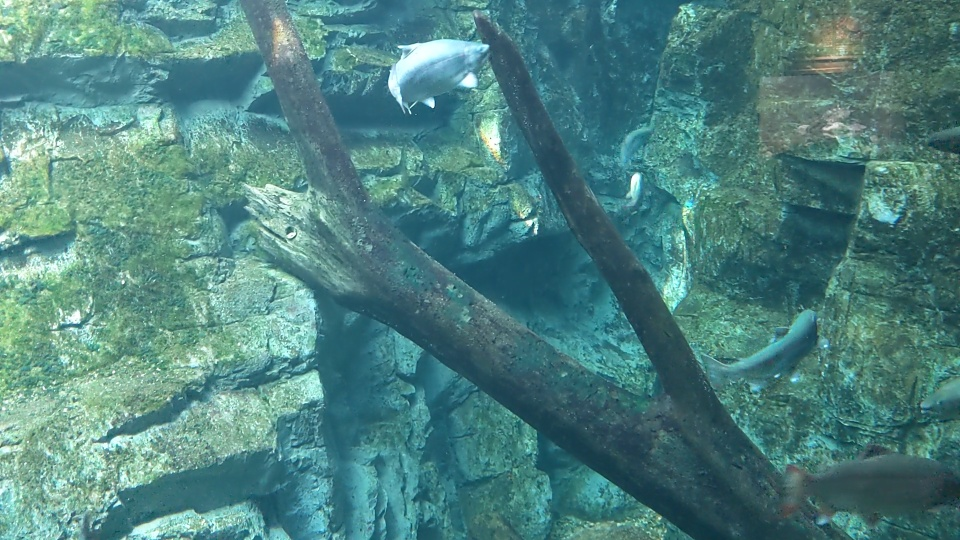Fish: (779, 445, 960, 517), (385, 35, 490, 103), (729, 308, 816, 376), (612, 168, 651, 208), (924, 110, 960, 153)
